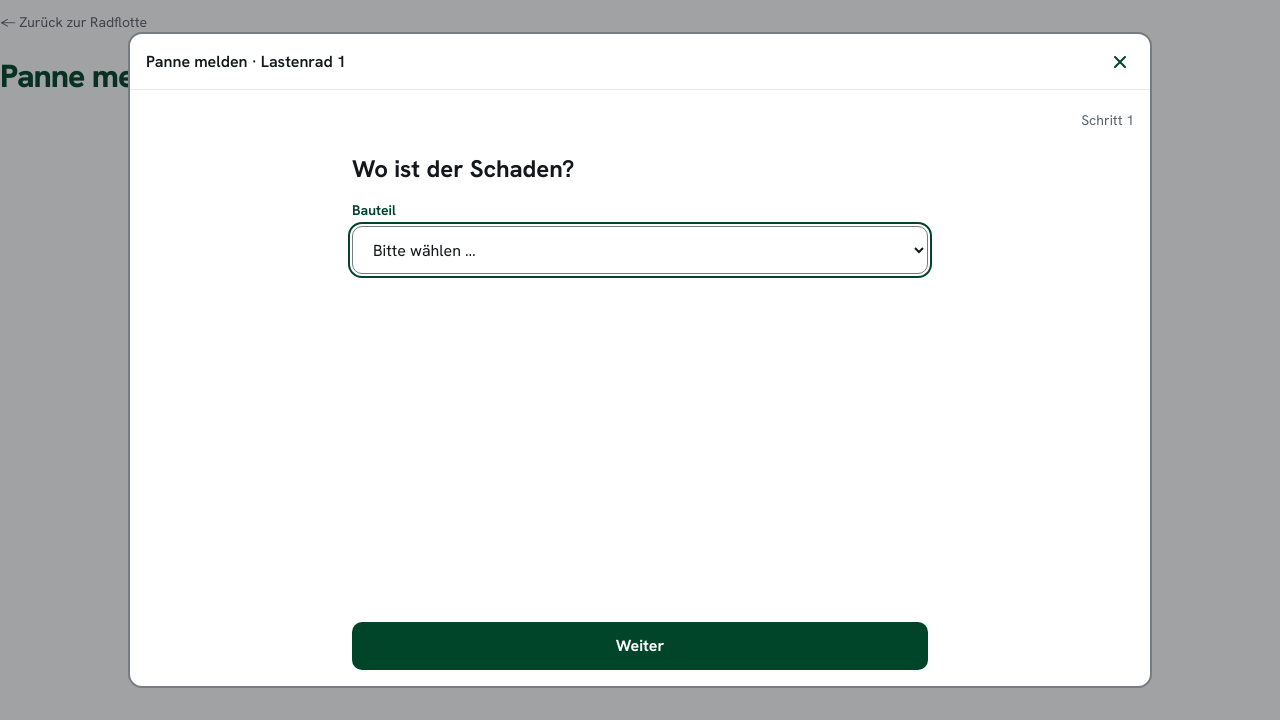
Test: Panne melden › meldet ohne Text nicht: „Melden“ wartet auf die Beschreibung
Click the button "Weiter": (640, 646) [352, 622, 928, 670]
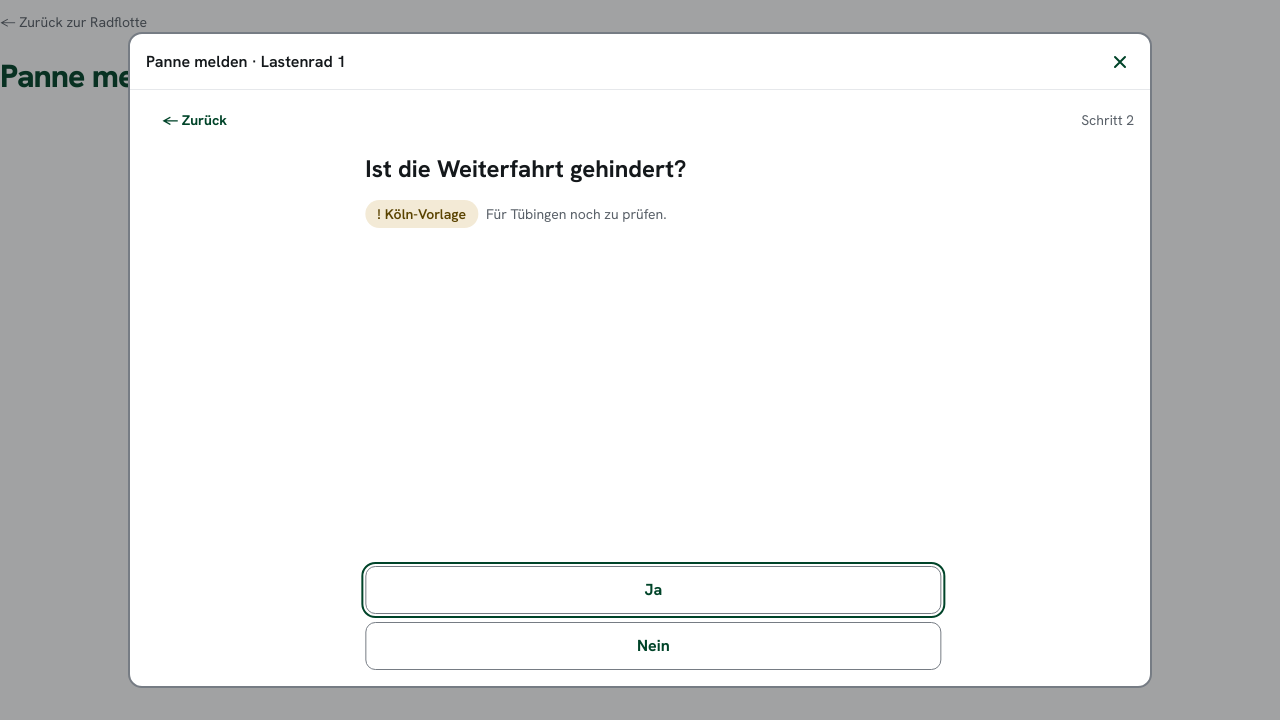
Click the button "Nein": (649, 646) [361, 622, 937, 670]
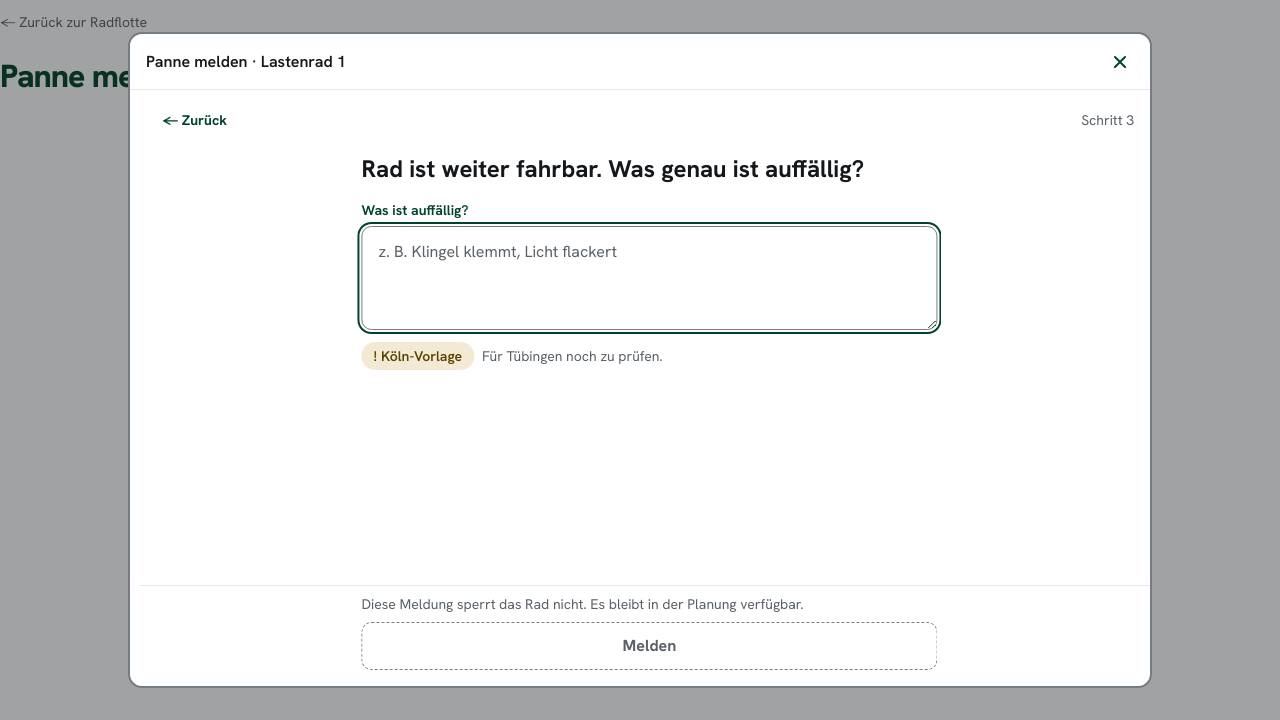
Expected: the text box labelled "Was ist auffällig?" is empty
Expected: the button "Melden" is disabled, [356, 622, 932, 670]
In the text box labelled "Was ist auffällig?": (644, 278) [356, 226, 932, 330], type "Klingel klemmt"
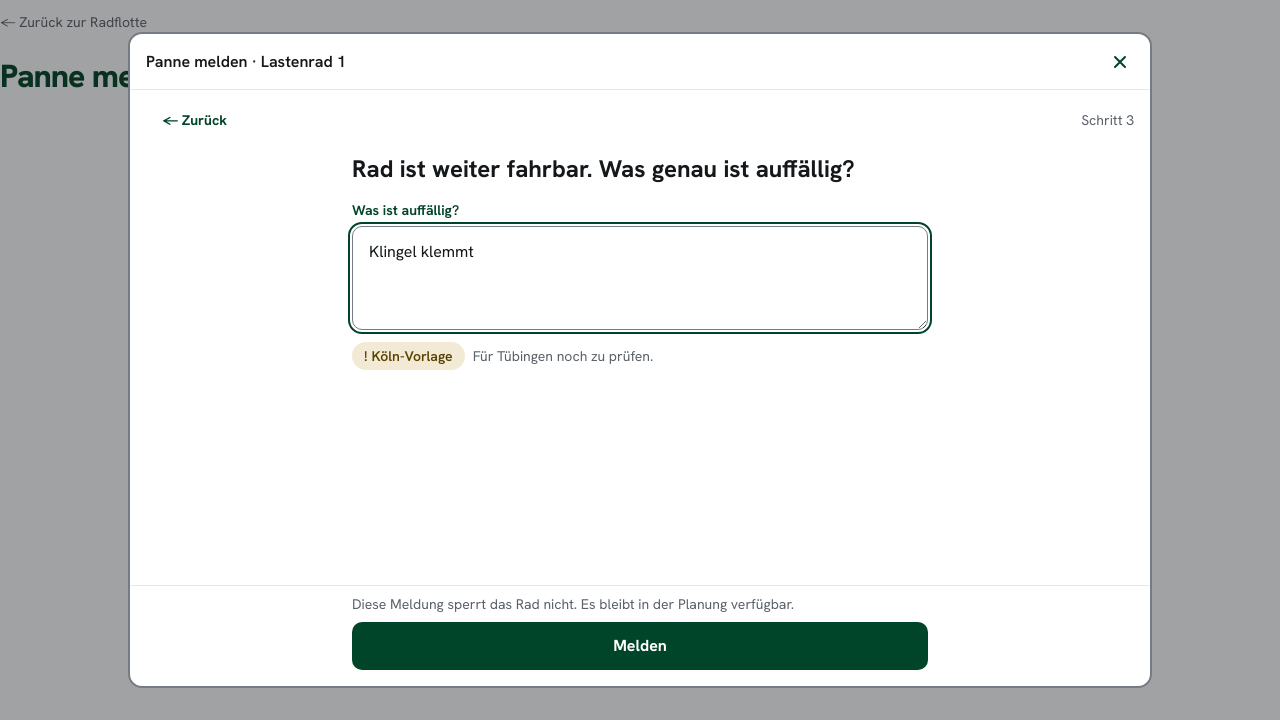
Expected: the button "Melden" is enabled, [352, 622, 928, 670]
